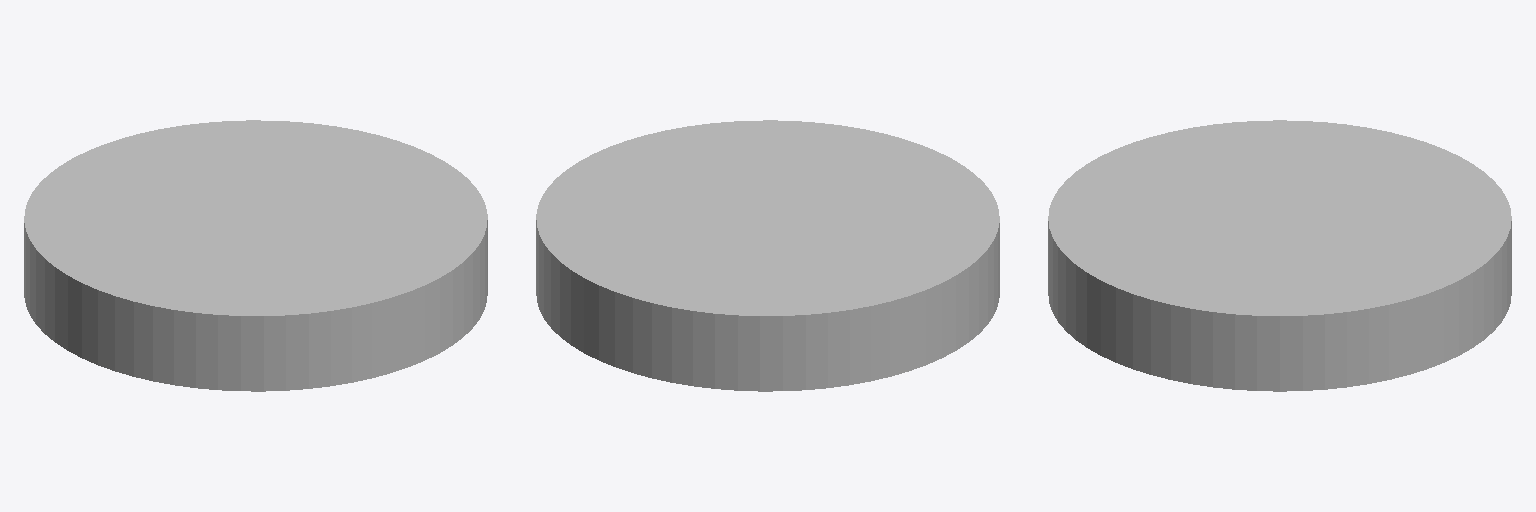
The model's file is inner_ring.obj.
3 views of the same model, side by side, from view 1: azimuth 30°, elevation 25°; view 2: azimuth 150°, elevation 25°; view 3: azimuth 270°, elevation 25° (orthographic).
Visible parts, largest first — view 1: Cylinder.001_Cylinder.456; view 2: Cylinder.001_Cylinder.456; view 3: Cylinder.001_Cylinder.456.
Part boxes in pixels (bbox=[...]): Cylinder.001_Cylinder.456: bbox=[24, 120, 487, 391]; Cylinder.001_Cylinder.456: bbox=[536, 120, 999, 391]; Cylinder.001_Cylinder.456: bbox=[1048, 120, 1511, 391].
Bounding box in the file's own units: 11.16 × 2 × 11.16.